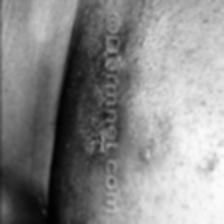Toxin: (132, 134, 158, 170), (84, 126, 106, 158)
